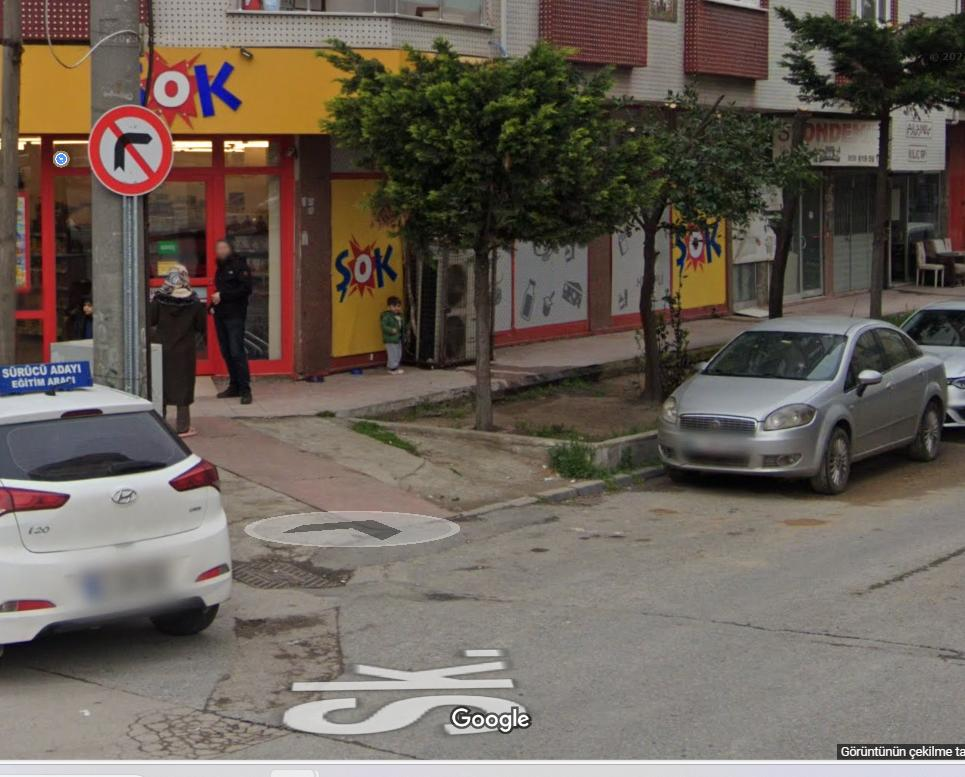rightturnsareforbidden: (87, 110, 166, 187)
